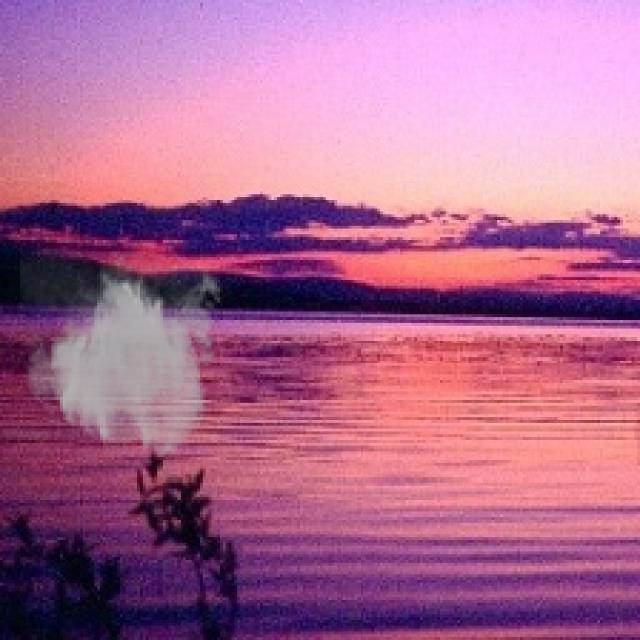smoke: (20, 251, 229, 460)
